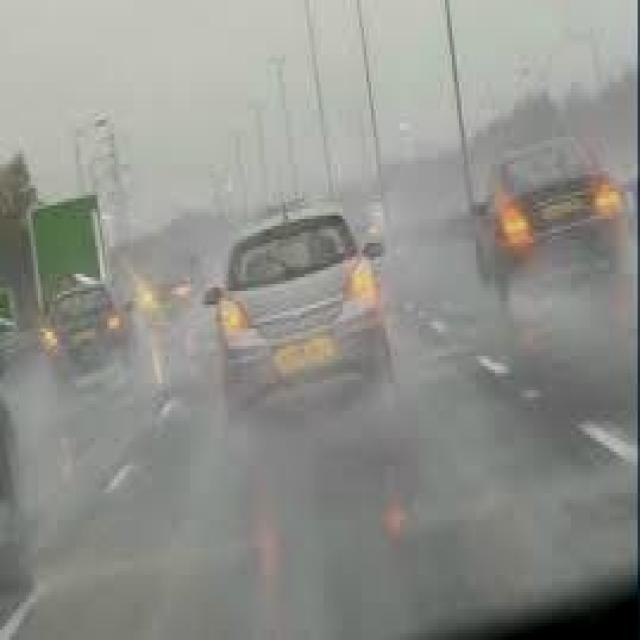Car: (204, 194, 400, 428), (470, 139, 628, 310), (36, 282, 141, 390)
